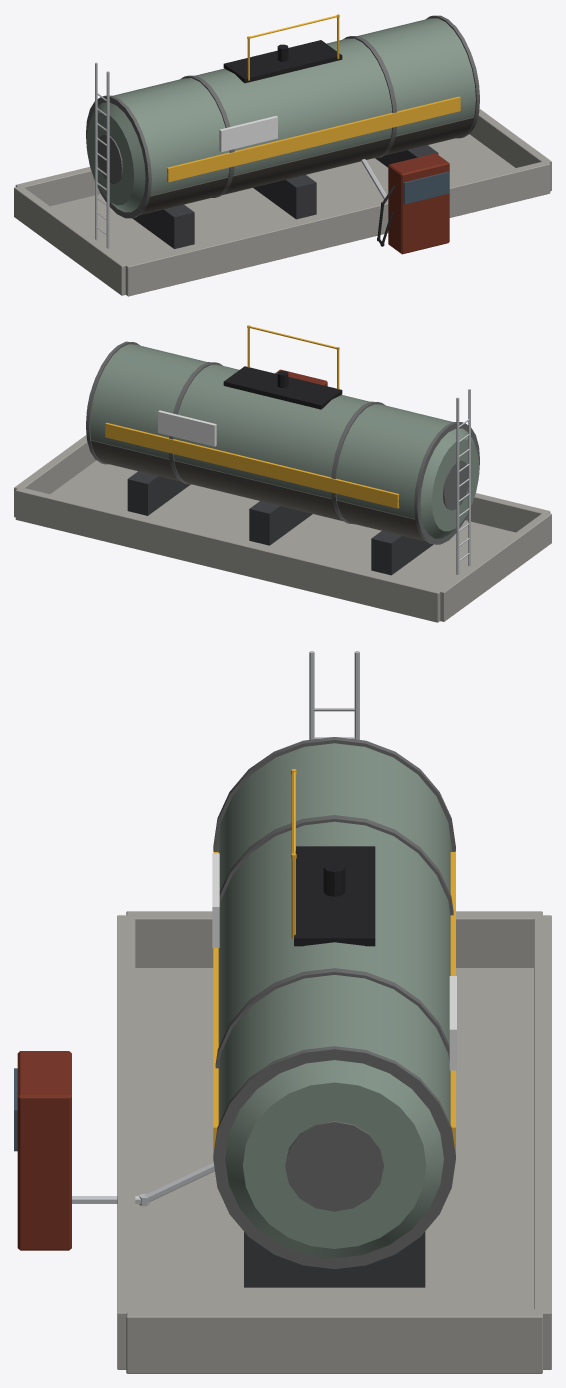
The model's file is fuel_tank.glb.
3 renders of one model, top to bottom at view 1: azimuth 30°, elevation 25°; view 2: azimuth 150°, elevation 25°; view 3: azimuth 270°, elevation 25°, orthographic. The views are drawn at different scales.
Parts seen in each view (by area): view 1: Body_LOD0; view 2: Body_LOD0; view 3: Body_LOD0.
Boxes of the visible parts, x1,y1,x2,y2 form: Body_LOD0: (14, 14, 551, 296); Body_LOD0: (14, 325, 551, 622); Body_LOD0: (14, 651, 551, 1373).
Bounding box in the file's own units: 10.6 × 4.38 × 5.94.
